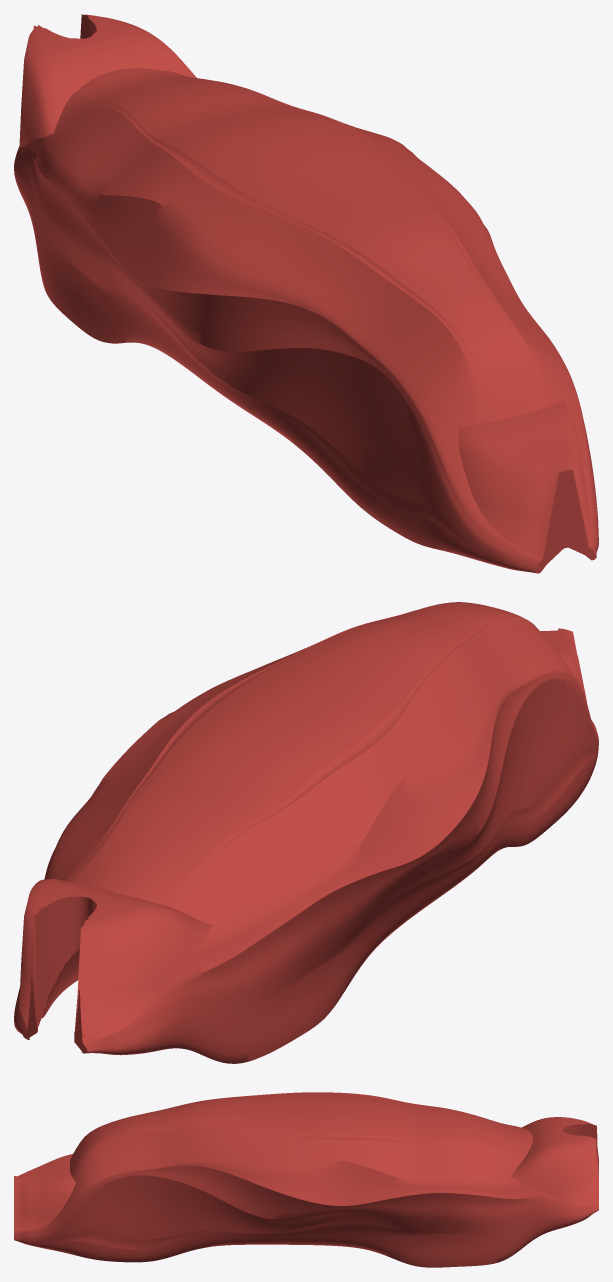
The model's file is streetfighter.glb.
The picture shows the model from 3 angles, top to bottom: view 1: azimuth 30°, elevation 25°; view 2: azimuth 150°, elevation 25°; view 3: azimuth 270°, elevation 25°; orthographic projection. The views are drawn at different scales.
Parts seen in each view (by area): view 1: lod0; view 2: lod0; view 3: lod0.
Boxes of the visible parts, <box> form: lod0: <box>14,14,598,573</box>; lod0: <box>14,602,598,1063</box>; lod0: <box>14,1092,598,1267</box>.
Size of what is drawn, in the model's own units: 0.362 by 0.2637 by 1.07.
